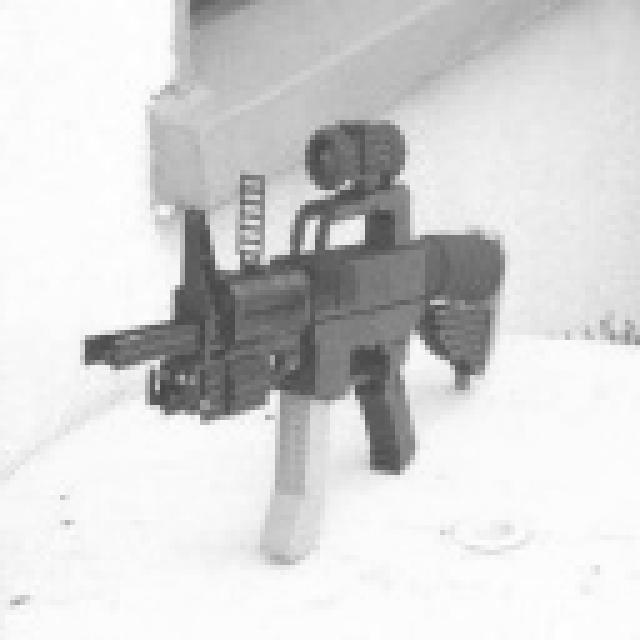Rifle: (40, 113, 557, 591)
